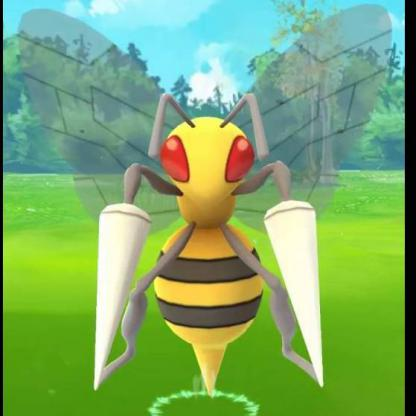Beedrill: (29, 18, 395, 406)
